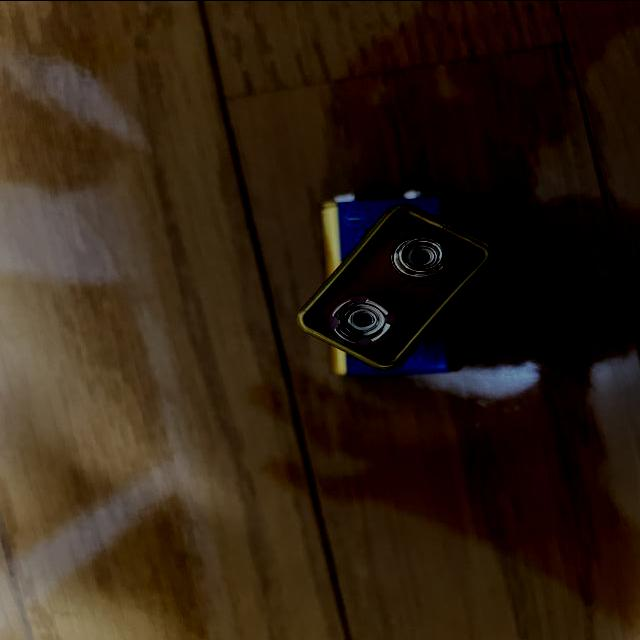9V: (298, 198, 492, 369), (319, 185, 457, 378)
